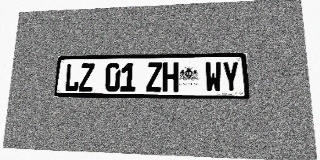0: (105, 63, 121, 92)
1: (120, 63, 136, 92)
H: (163, 62, 178, 92)
L: (64, 63, 80, 91)
W: (205, 61, 222, 92)
Y: (222, 61, 240, 92)
Z: (146, 62, 162, 92), (79, 63, 95, 92)
